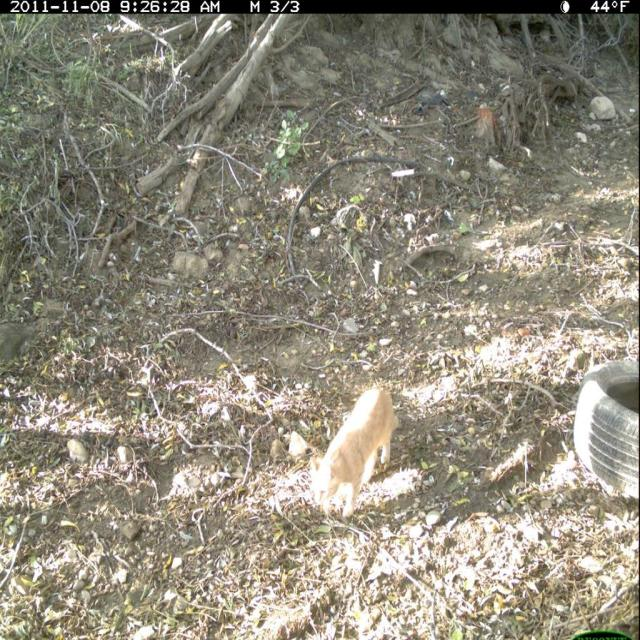cat: (301, 380, 408, 529)
